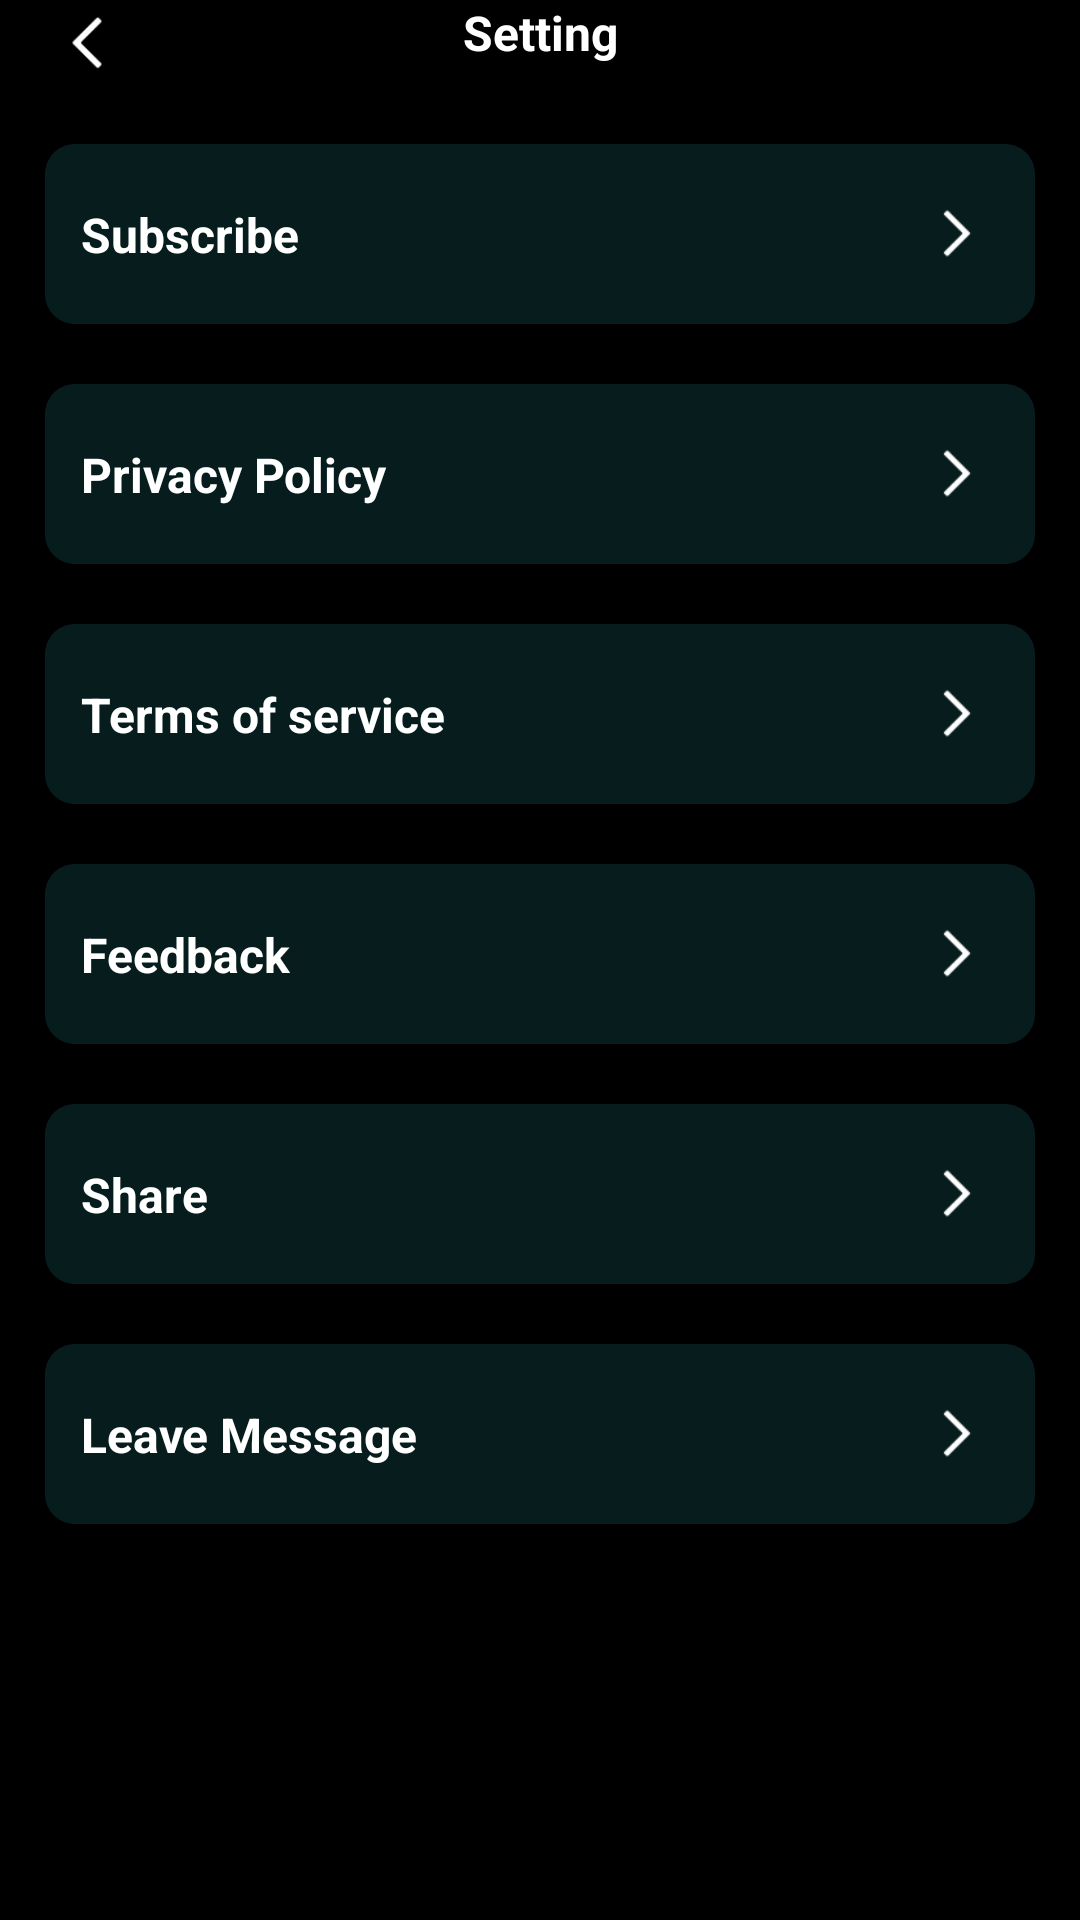

Screen size 1080 × 1920. Icon name, then its box in pixels as [x1, y1, x2, y2]:
back: [72, 17, 102, 69]
next: [943, 210, 971, 257], [943, 450, 971, 497], [943, 690, 971, 737], [943, 930, 971, 977], [943, 1170, 971, 1217], [943, 1410, 971, 1457]
